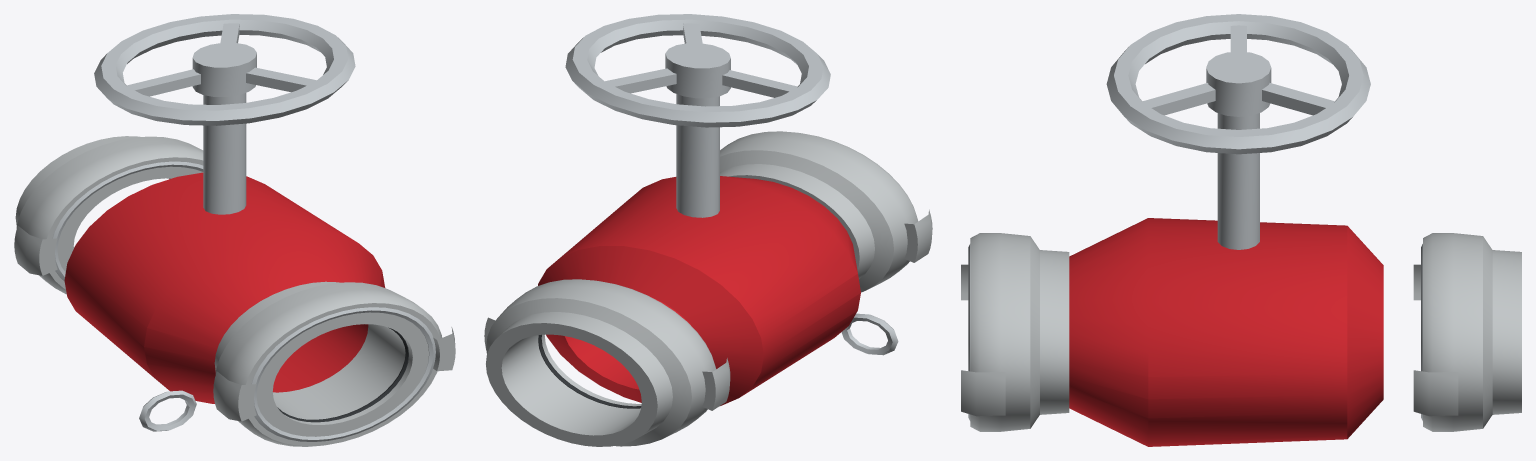
Rendered from ob_valve_g5_lower.glb.
3 renders of one model, left to right at view 1: azimuth 30°, elevation 25°; view 2: azimuth 150°, elevation 25°; view 3: azimuth 270°, elevation 25°, orthographic. The views are drawn at different scales.
Visible parts, largest first — view 1: ob_valve_g5_lower; view 2: ob_valve_g5_lower; view 3: ob_valve_g5_lower.
Boxes of the visible parts, left/top/right/bottom form: ob_valve_g5_lower: left=14, top=14, right=455, bottom=446; ob_valve_g5_lower: left=484, top=14, right=932, bottom=446; ob_valve_g5_lower: left=961, top=14, right=1521, bottom=446.
Size of the model in its own units: 0.27 by 0.31 by 0.44.
